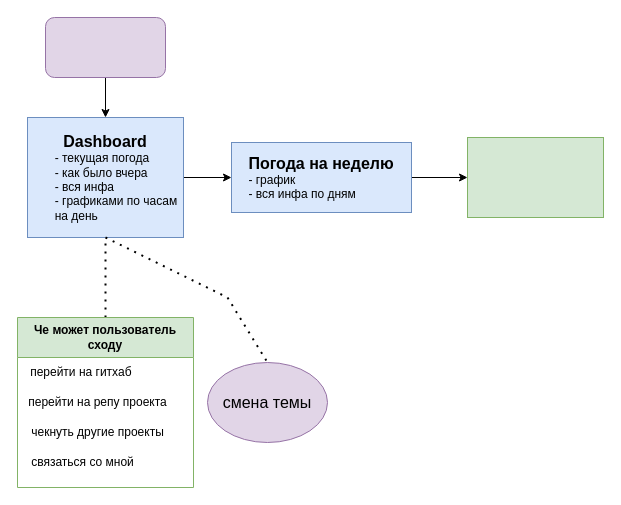
Image size: 621x505. Some labels were removed from this diagram. The shapes that lost their labels are listed below. From the top down, each one's centre as x and y in pixels, then its label:
At point (105, 47): "Загрузочное окно".
At point (535, 177): "Можно перейти на каждый день отдельный и ченкуть погодку".
